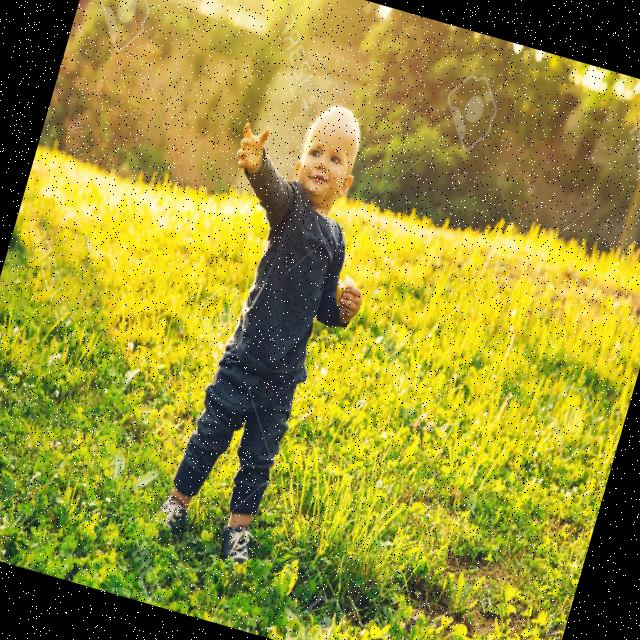Person: (126, 79, 414, 576)
